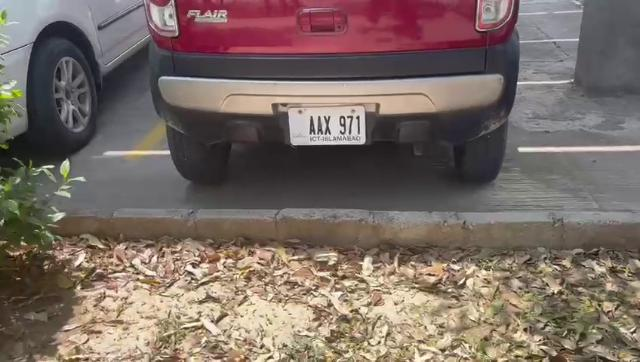plate: (288, 105, 366, 144)
